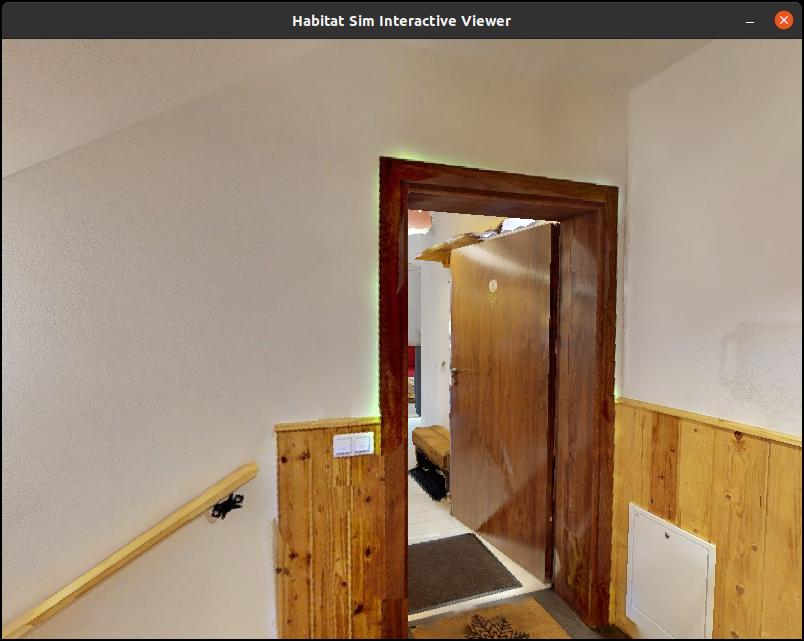door: (444, 228, 561, 541)
door-frame: (380, 166, 605, 622)
